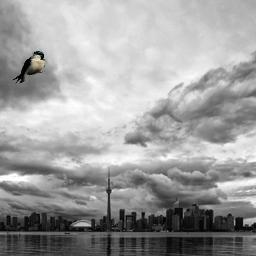Swallow: (12, 51, 45, 84)
